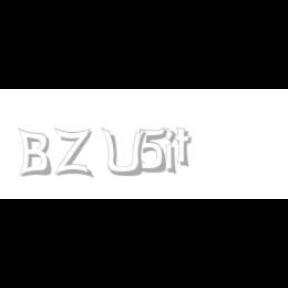5: (136, 128, 168, 174)
B: (17, 128, 51, 178)
U: (100, 128, 145, 178)
Z: (54, 128, 92, 178)
i: (164, 128, 180, 176)
t: (174, 128, 196, 168)
